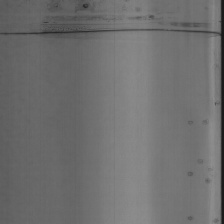crease: (9, 26, 217, 46)
